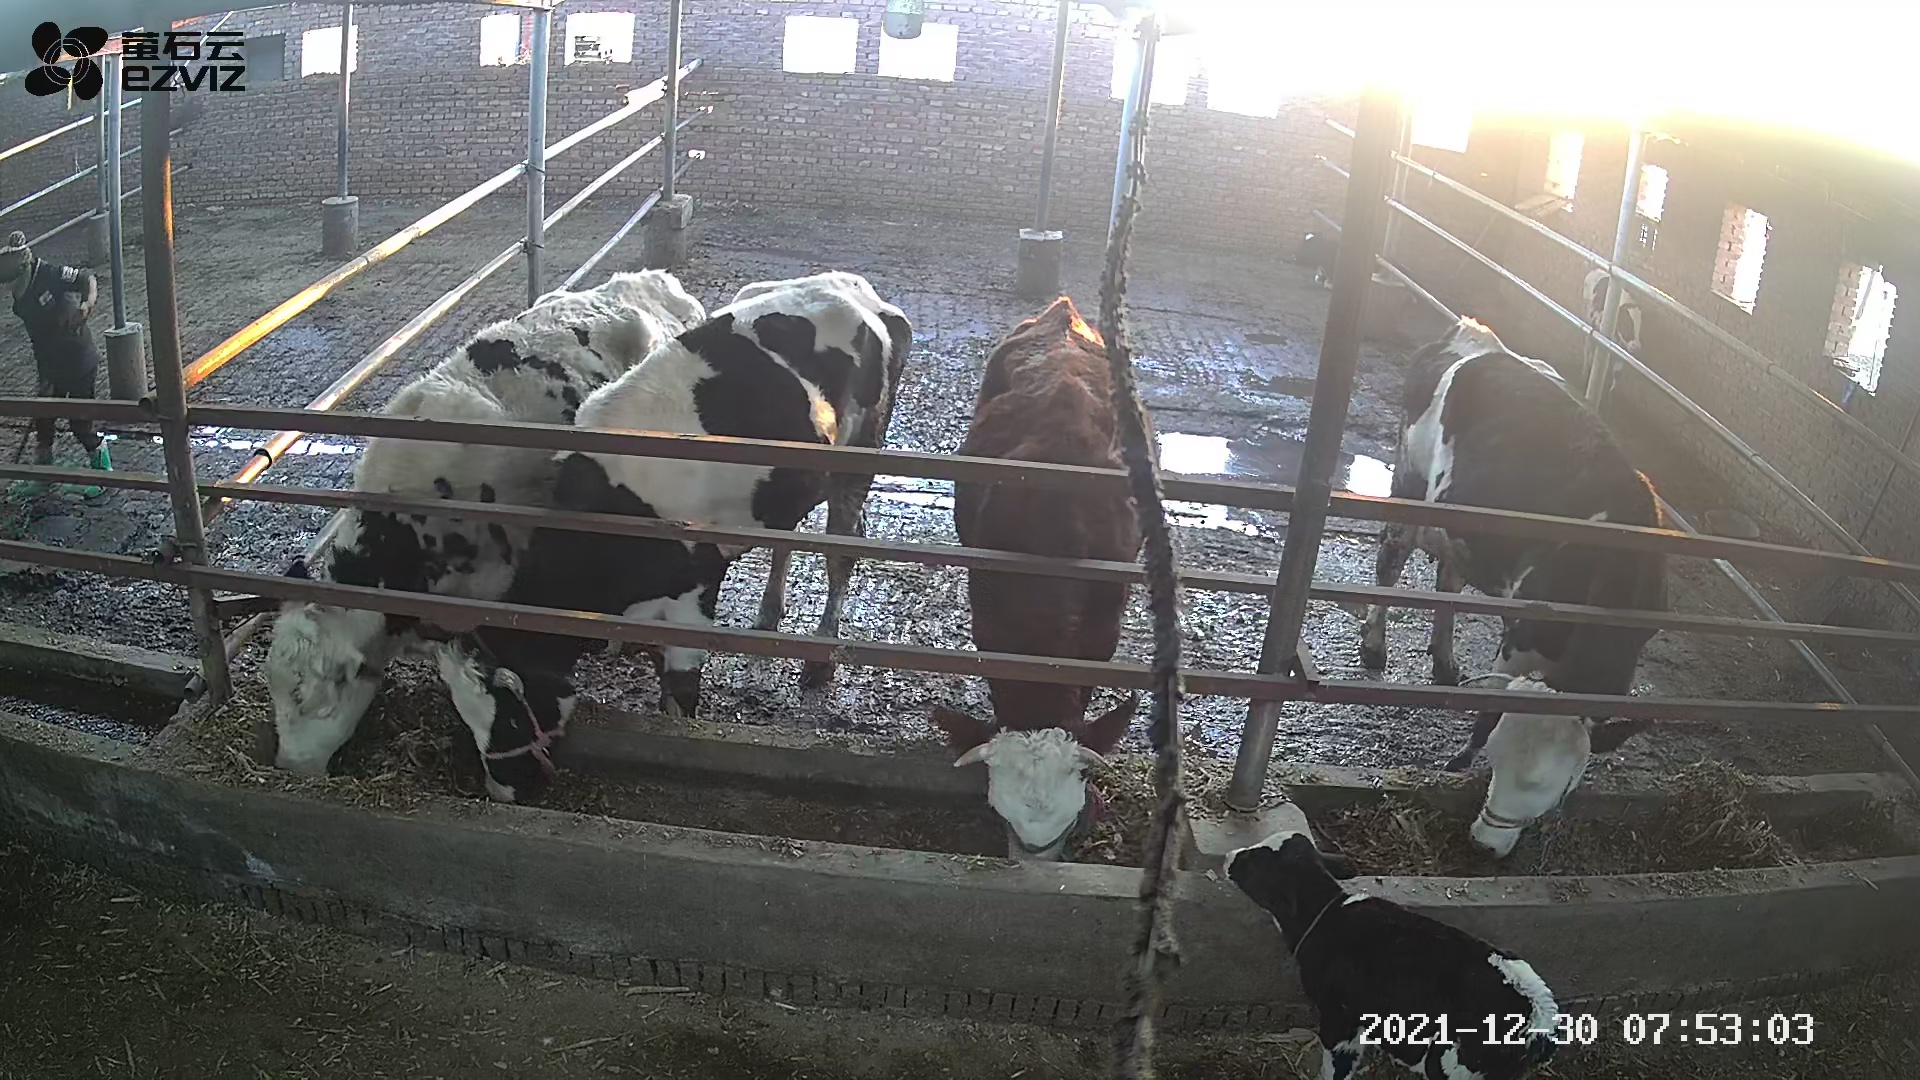cow: (401, 268, 914, 807), (255, 262, 708, 781), (1356, 316, 1671, 862), (934, 293, 1160, 865)
